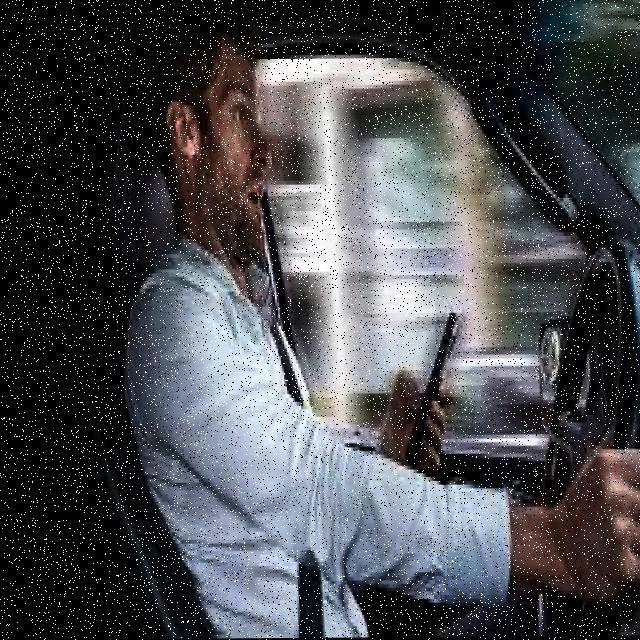seatbelt: (186, 276, 347, 638)
